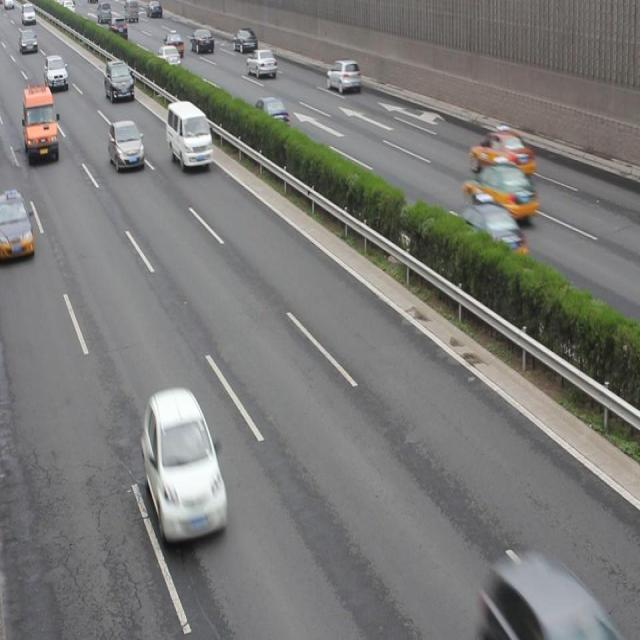car: (143, 387, 227, 547), (483, 560, 613, 640), (453, 199, 525, 268), (461, 161, 534, 223), (468, 126, 534, 181), (1, 190, 32, 260), (110, 120, 144, 170), (249, 96, 289, 132), (104, 58, 134, 103), (327, 58, 360, 96), (44, 53, 68, 92), (246, 49, 277, 77), (155, 43, 180, 71), (232, 28, 258, 54), (190, 29, 212, 54), (164, 30, 183, 56), (111, 16, 128, 37)
truck: (167, 98, 212, 168), (23, 89, 59, 160)
